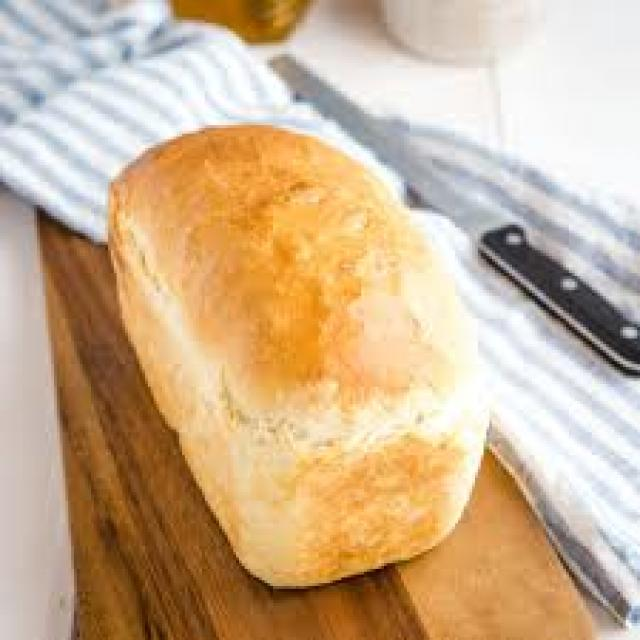bread: (108, 124, 490, 586)
